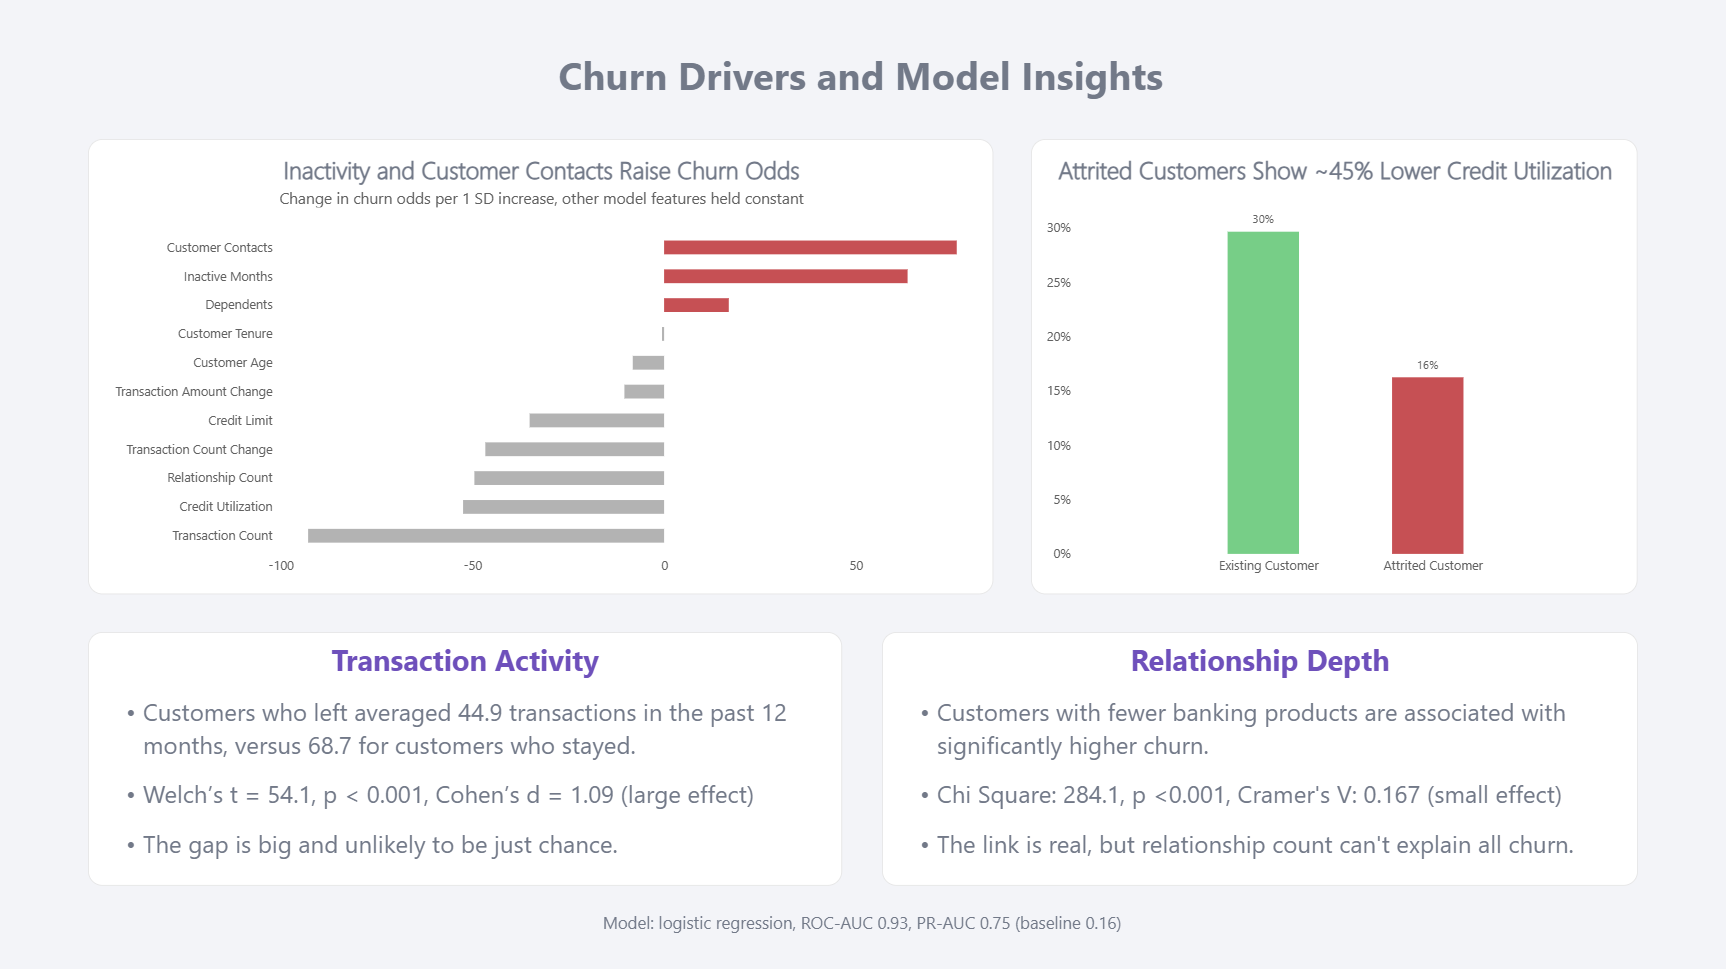

This screenshot's page, from the dashboard's own definition file:
{"tool":"powerbi","page":{"name":"Churn Drivers","canvas":[1920,1080],"ordinal":1},"visuals":[{"type":"clusteredBarChart","title":"Inactivity and Customer Contacts Raise Churn Odds","fields":{"Category":["ModelDrivers.Feature Label"],"Y":["Sum(ModelDrivers.odds_change_pct)"]},"box":[100,158,1006,506],"z":0},{"type":"textbox","box":[982,706,840,282],"z":1000},{"type":"textbox","box":[100,706,838,282],"z":2000},{"type":"clusteredColumnChart","title":"Attrited Customers Show ~45% Lower Credit Utilization","fields":{"Category":["Customers.attrition_status"],"Y":["Avg(Customers.avg_utilization_ratio)"]},"box":[1148,158,674,506],"z":3000},{"type":"textbox","box":[560,58,797.5,72.5],"z":4000},{"type":"textbox","box":[460,1016,1000,36],"z":5000}]}

Visuals, with their boxes in screenshot pixels (x1, y1, x2, y2), scaled from the page's 1920x1080 canvas onto the 1726x969 screenshot:
"Inactivity and Customer Contacts Raise Churn Odds" clusteredBarChart: (90,142,994,596)
textbox: (883,633,1638,886)
textbox: (90,633,843,886)
"Attrited Customers Show ~45% Lower Credit Utilization" clusteredColumnChart: (1032,142,1638,596)
textbox: (503,52,1220,117)
textbox: (414,912,1312,944)
